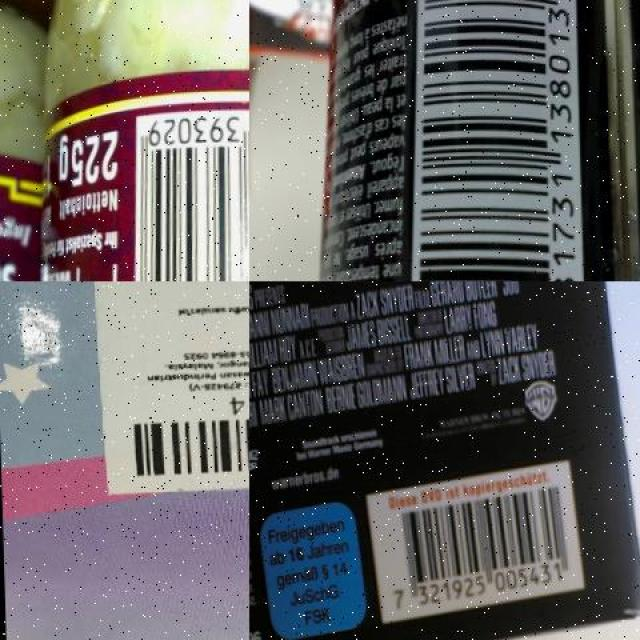Barcode: (396, 0, 584, 281), (360, 461, 583, 626), (122, 108, 250, 281), (112, 392, 249, 481)
